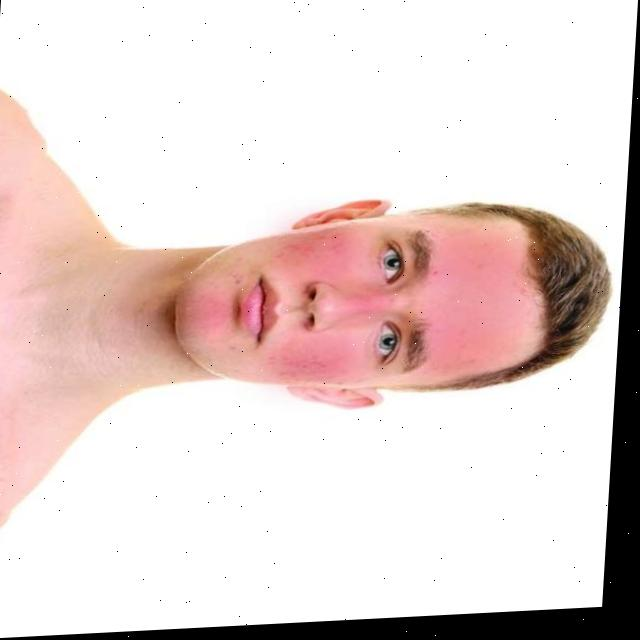Rosacea: (253, 216, 512, 383)
